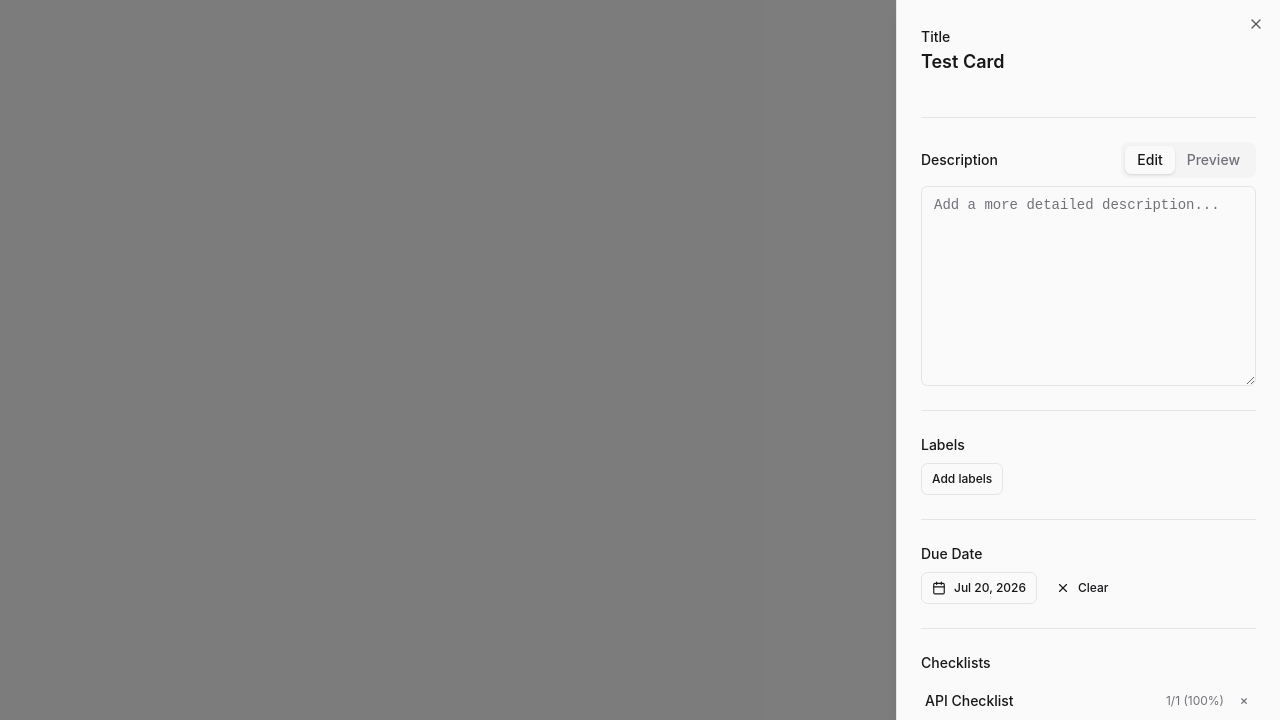
CardDetailPanel › Markdown description editor › shows "Nothing to preview" when description is empty in Preview mode
Step 1. Click the tab "Preview" → {"x": 1213, "y": 160}, box [1175, 146, 1252, 174]
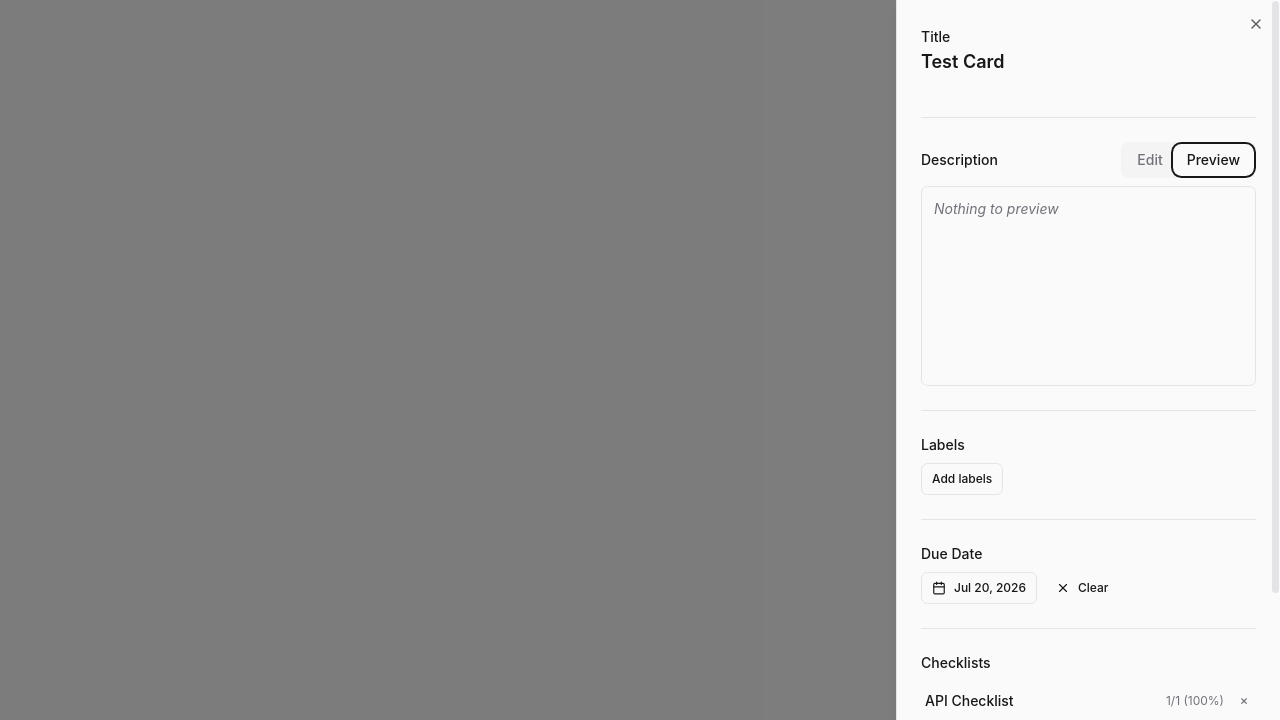
Result: the text "Nothing to preview" is shown at [934, 200, 1059, 217]
